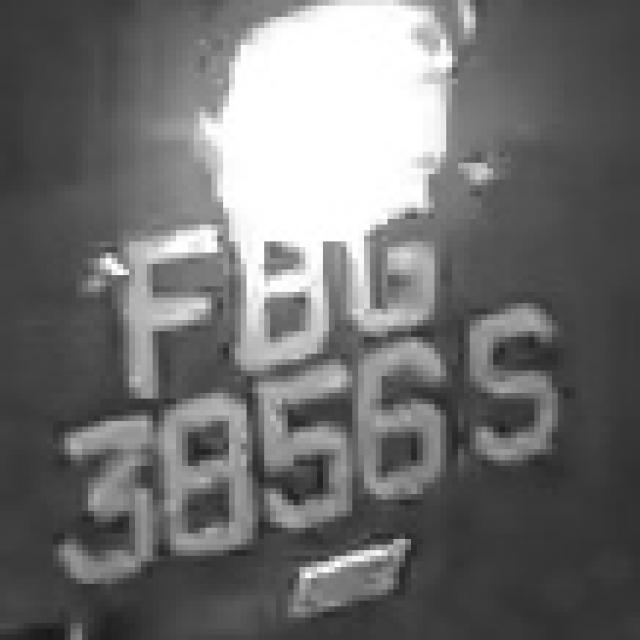3: (59, 410, 164, 595)
5: (247, 365, 358, 539)
6: (358, 331, 458, 511)
8: (141, 370, 258, 562)
B: (235, 196, 340, 382)
F: (106, 208, 223, 387)
G: (329, 163, 446, 337)
S: (476, 286, 576, 494)
